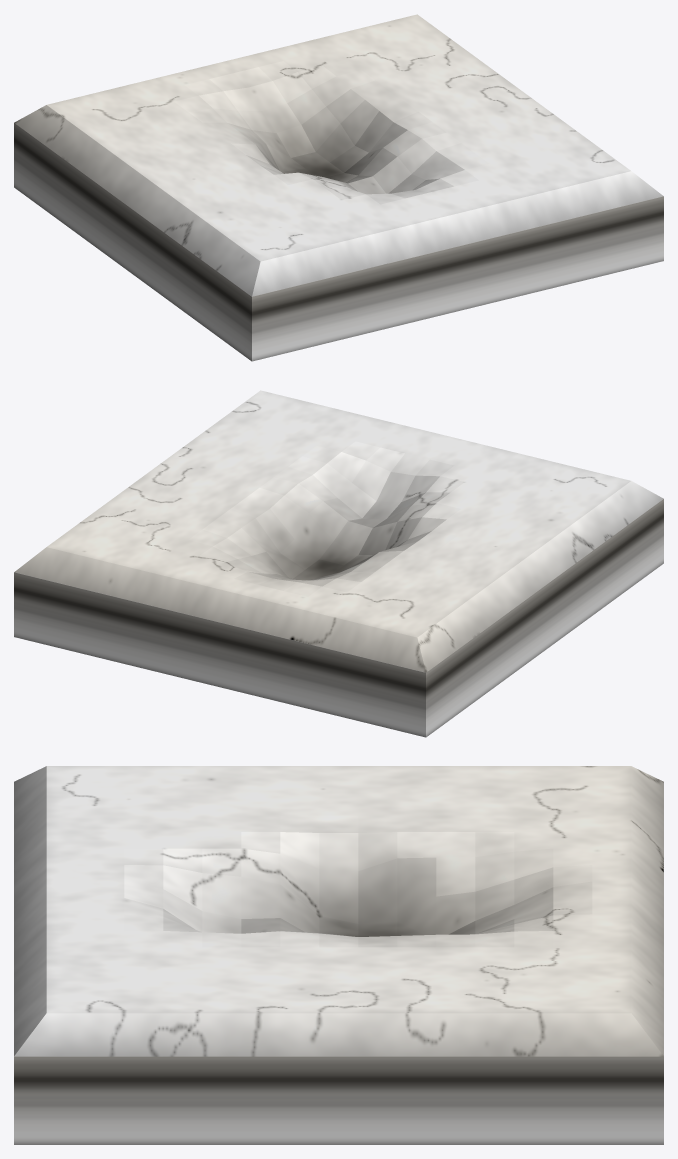
File: tile_mud_d3.glb
3 views of the same model, one above another, from view 1: azimuth 30°, elevation 25°; view 2: azimuth 150°, elevation 25°; view 3: azimuth 270°, elevation 25° (orthographic). The views are drawn at different scales.
Visible parts, largest first — view 1: tile_mud_d3; view 2: tile_mud_d3; view 3: tile_mud_d3.
Boxes of the visible parts, box(x1,y1,x2,y2) form: tile_mud_d3: box(14, 14, 663, 361); tile_mud_d3: box(14, 390, 663, 737); tile_mud_d3: box(14, 766, 663, 1144).
Bounding box in the file's own units: 1 × 0.2 × 1.
Materials: 1 (1 with a texture image).
